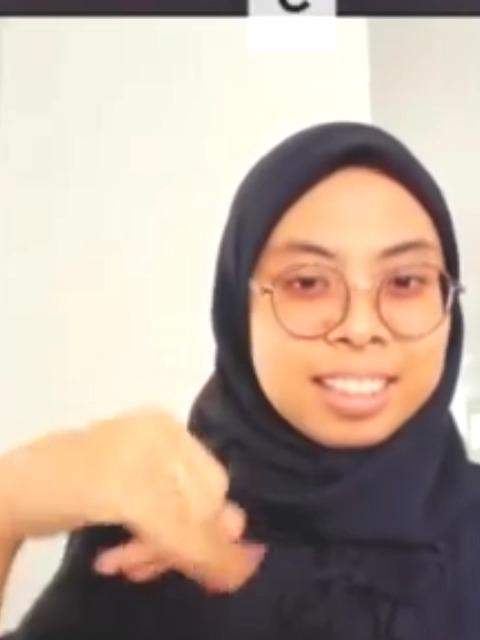J: (0, 402, 258, 596)
